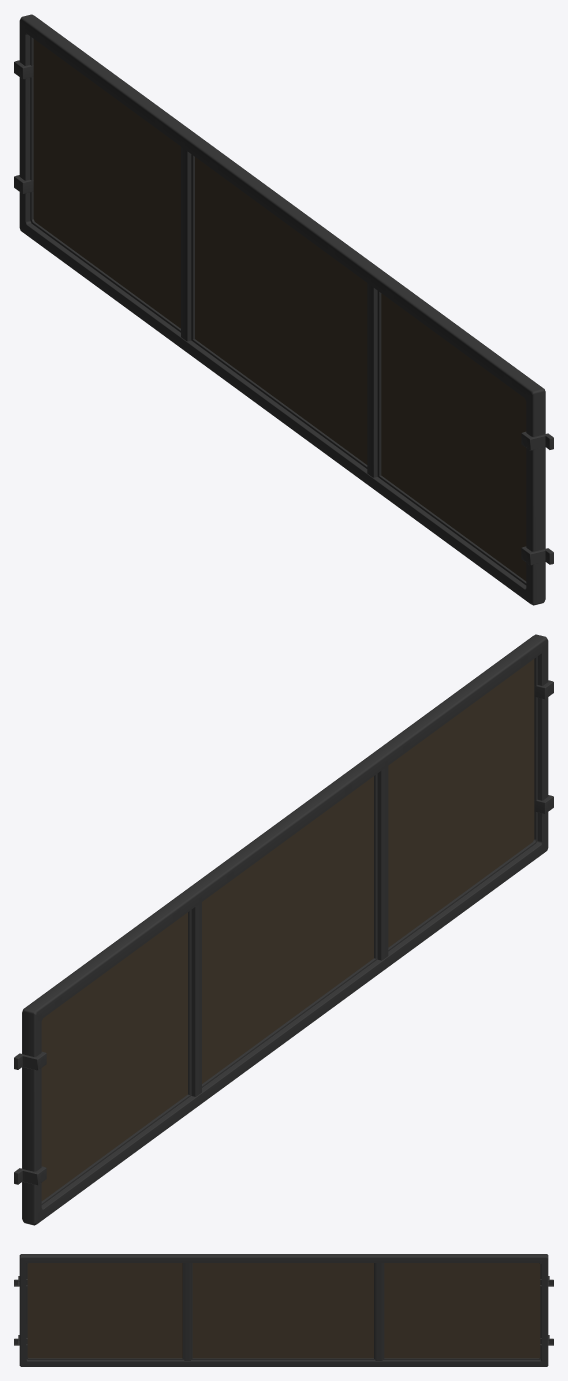
The model's file is SM_GridWindow_Build02.fbx.
3 renders of one model, top to bottom at view 1: azimuth 30°, elevation 25°; view 2: azimuth 150°, elevation 25°; view 3: azimuth 270°, elevation 25°, orthographic. The views are drawn at different scales.
Parts seen in each view (by area): view 1: SM_GridWindow_Build02_LOD0; view 2: SM_GridWindow_Build02_LOD0; view 3: SM_GridWindow_Build02_LOD0.
Boxes of the visible parts, x1=… form: SM_GridWindow_Build02_LOD0: x1=14, y1=14, x2=553, y2=605; SM_GridWindow_Build02_LOD0: x1=14, y1=634, x2=553, y2=1225; SM_GridWindow_Build02_LOD0: x1=14, y1=1254, x2=553, y2=1366.
Size of the model in its own units: 14.01 by 640 by 144.
